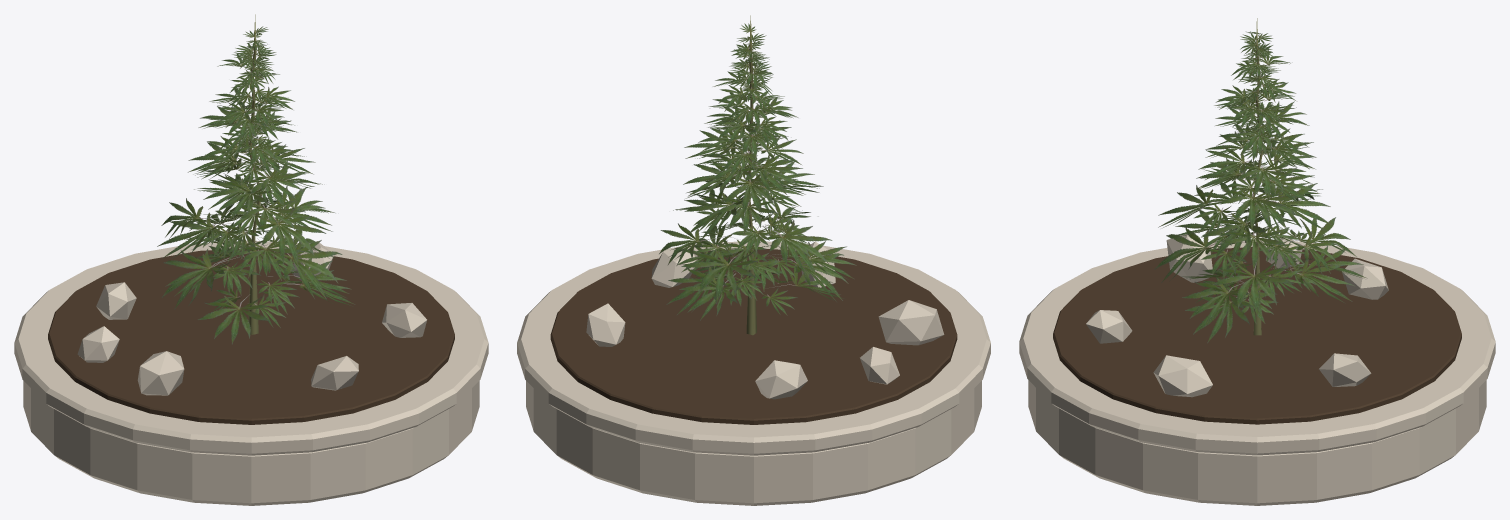
File: origen-central-island-v1.glb
3 views of the same model, side by side, from view 1: azimuth 30°, elevation 25°; view 2: azimuth 150°, elevation 25°; view 3: azimuth 270°, elevation 25° (orthographic).
Parts seen in each view (by area): view 1: ORIGEN_Island_Stone, Soil, Cannabis Plant_Leaf_0; view 2: ORIGEN_Island_Stone, Soil, Cannabis Plant_Leaf_0; view 3: ORIGEN_Island_Stone, Soil, Cannabis Plant_Leaf_0.
Boxes of the visible parts, bbox=[...] form: ORIGEN_Island_Stone: bbox=[14, 240, 488, 505]; Soil: bbox=[48, 248, 454, 424]; Cannabis Plant_Leaf_0: bbox=[157, 14, 355, 344]; ORIGEN_Island_Stone: bbox=[517, 241, 990, 505]; Soil: bbox=[550, 249, 957, 424]; Cannabis Plant_Leaf_0: bbox=[659, 15, 856, 335]; ORIGEN_Island_Stone: bbox=[1019, 234, 1495, 505]; Soil: bbox=[1053, 247, 1461, 424]; Cannabis Plant_Leaf_0: bbox=[1154, 18, 1367, 343].
Bounding box in the file's own units: 2.12 × 1.96 × 2.12.
3 materials, 1 textured.
